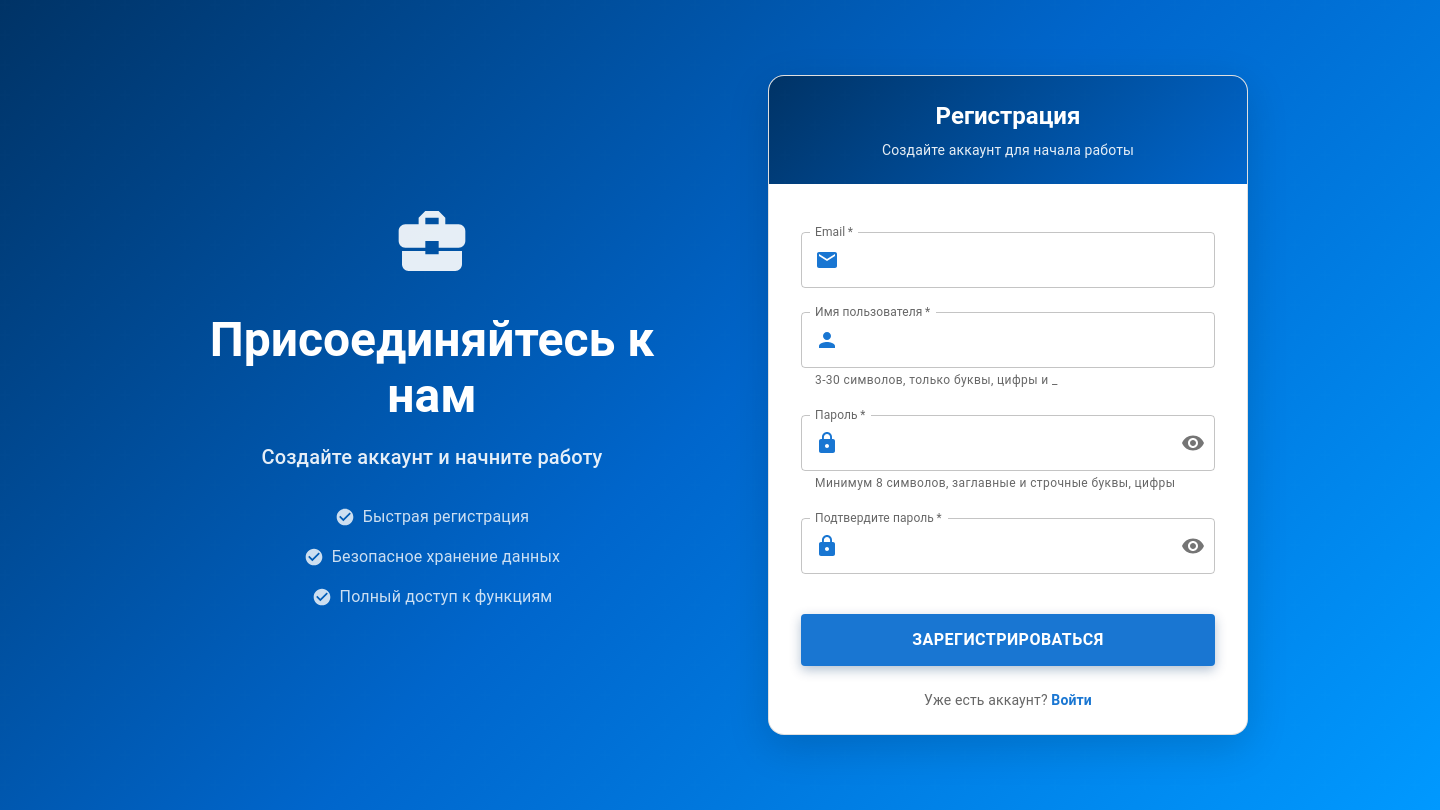
Test: RegisterPage › validates password confirmation
In the password field labelled "Пароль *": (1006, 443) [847,415,1165,471], type "TestPassword123"
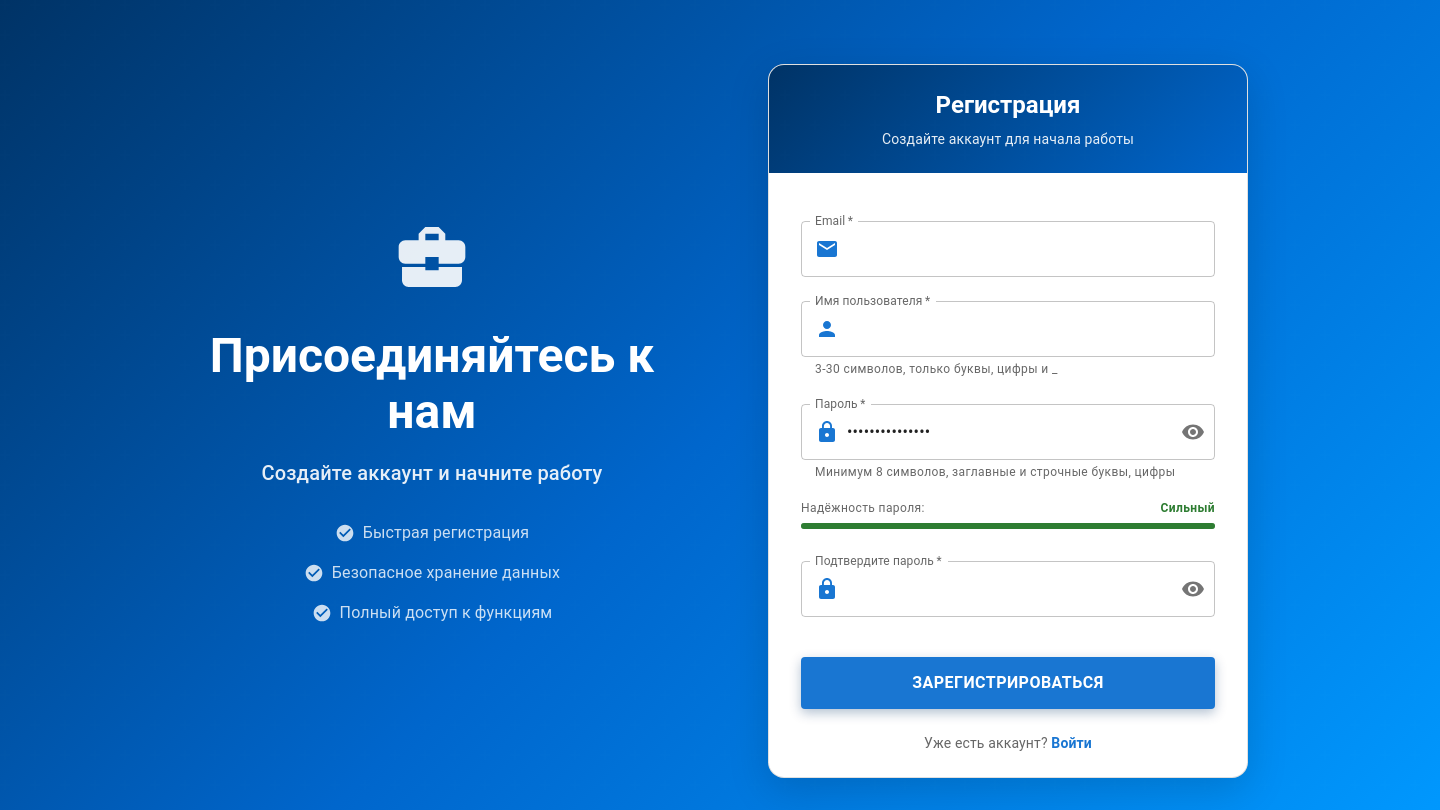
In the password field labelled "Подтвердите пароль *": (1006, 589) [847,561,1165,617], type "DifferentPassword"
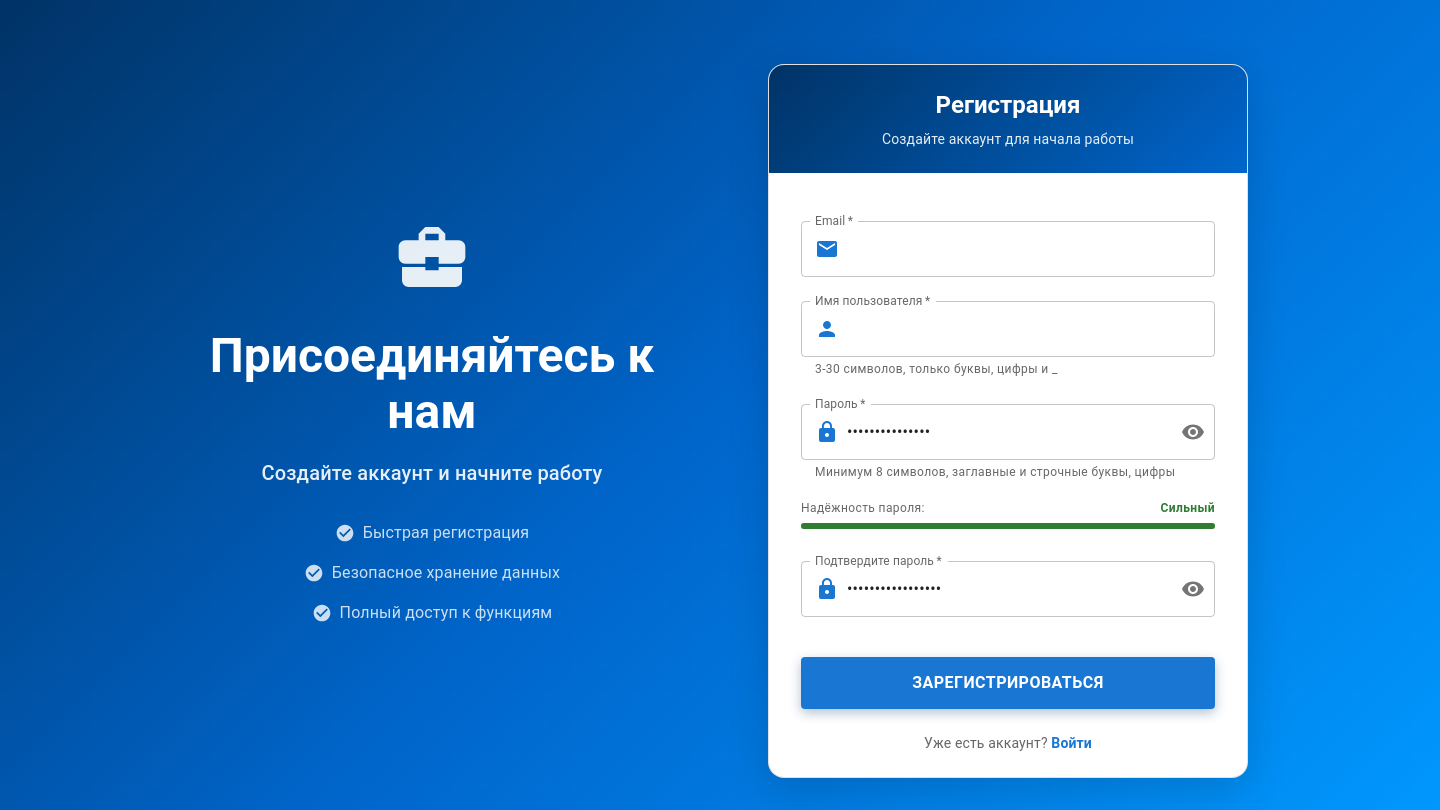
Leave the password field labelled "Подтвердите пароль *", box [847,561,1165,617]
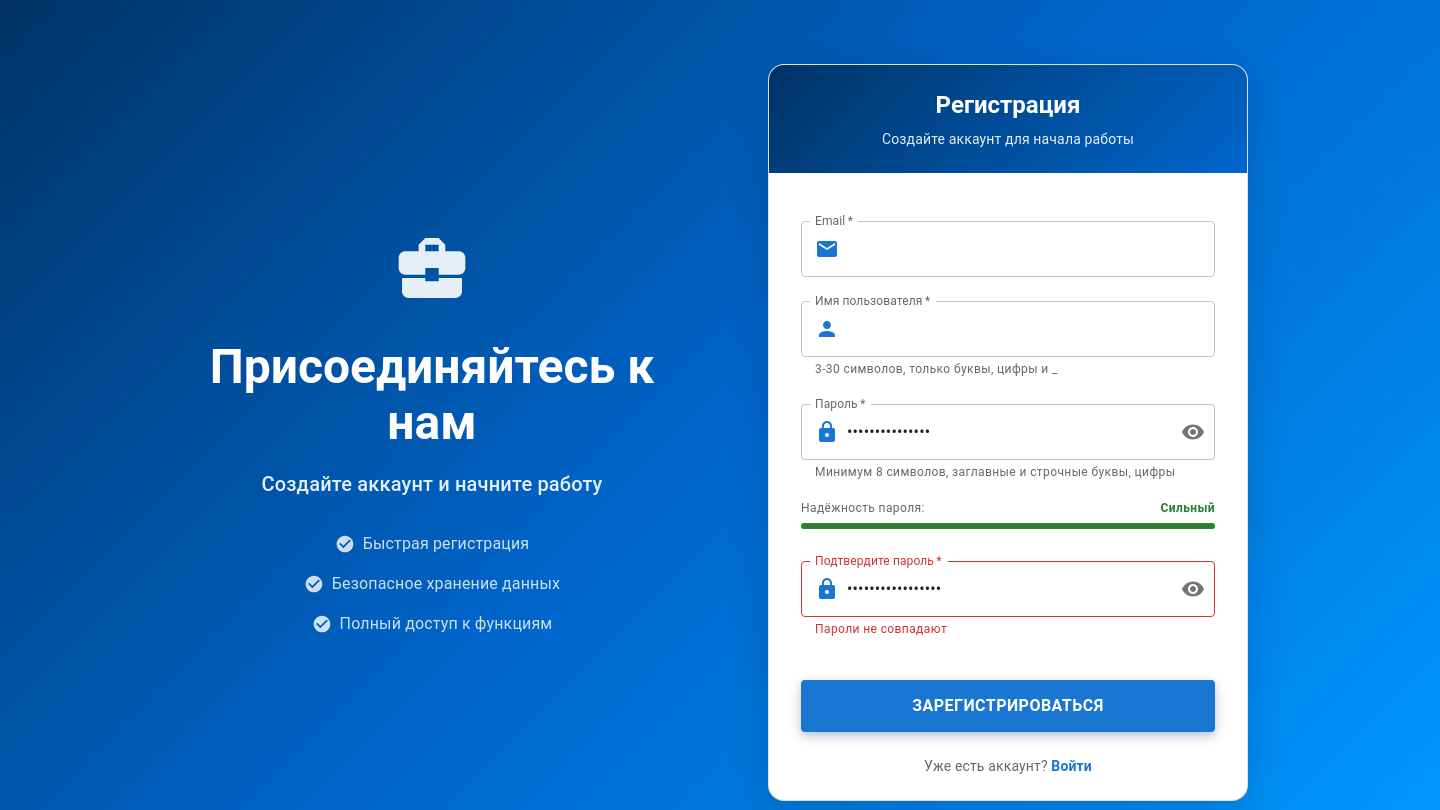
Expected: the text "Пароли не совпадают" is shown, [815,622,947,636]
